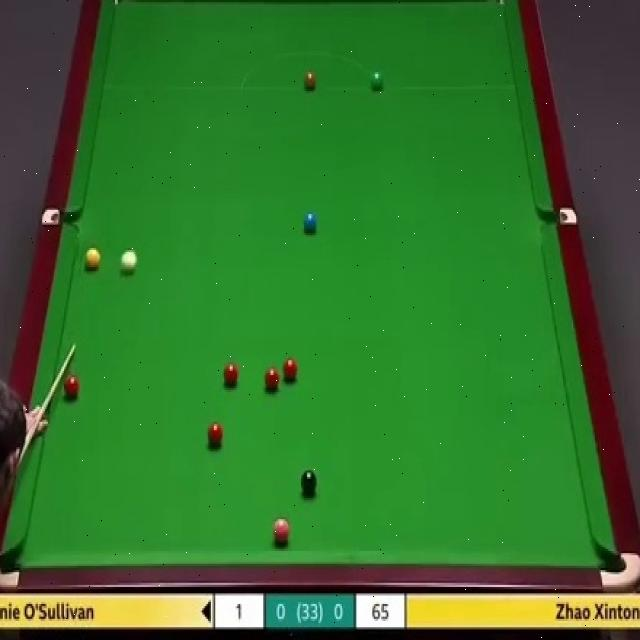black-ball: (301, 469, 318, 497)
blue-ball: (302, 210, 318, 234)
brown-ball: (304, 72, 316, 92)
green-ball: (371, 69, 384, 94)
pink-ball: (272, 516, 292, 544)
red-ball: (206, 421, 225, 448), (264, 366, 281, 396), (62, 372, 80, 400), (224, 361, 240, 390), (283, 356, 297, 384)
white-ball: (119, 248, 138, 275)
yellow-ball: (84, 242, 100, 272)
